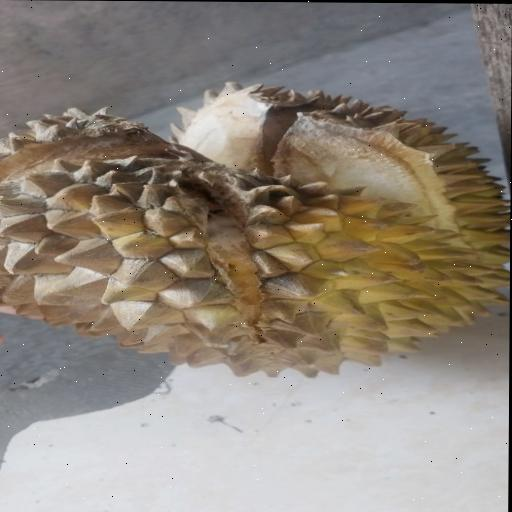rot: (0, 72, 511, 388)
